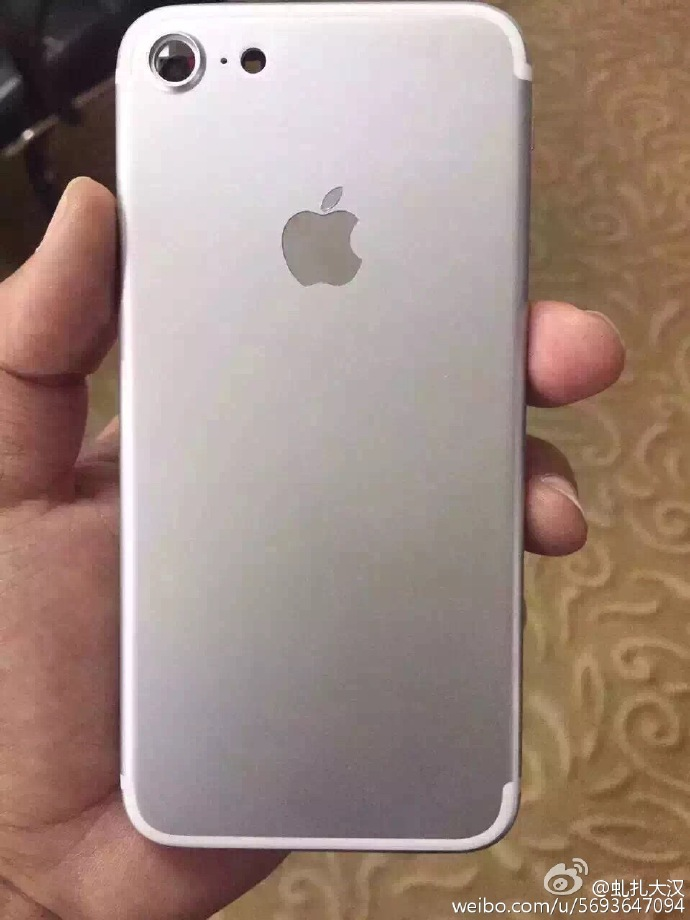apple: (255, 170, 383, 329)
